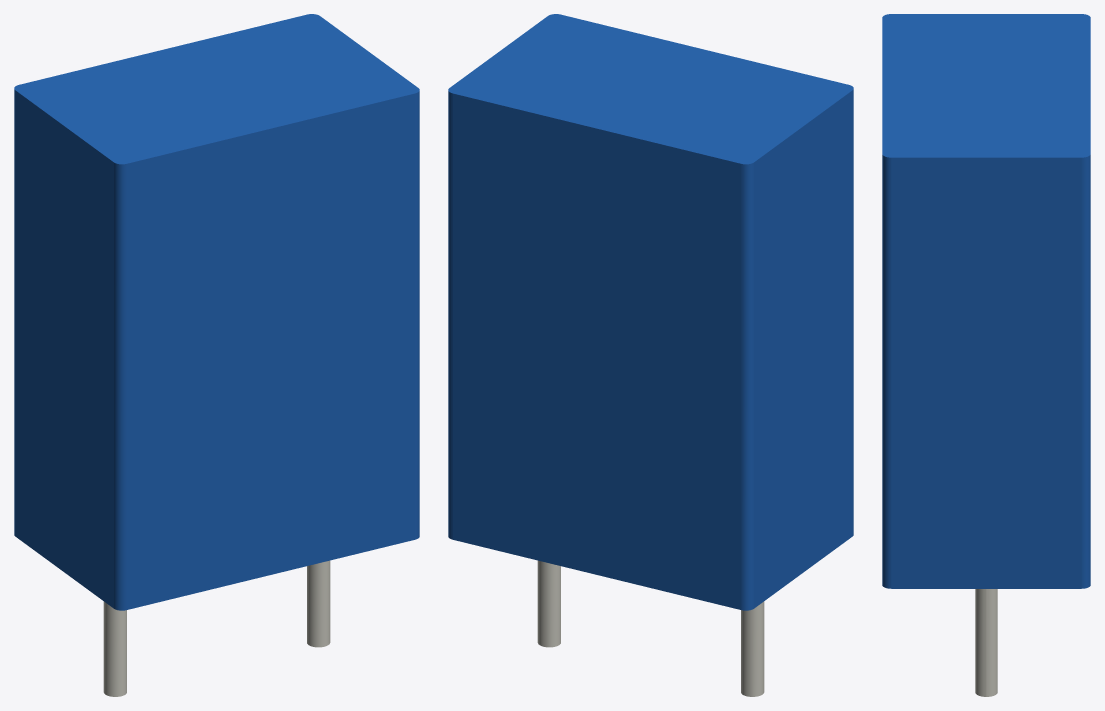
File: kc-l_radial_l7.5mm_w4.6mm_p5.00mm_neosid_sd75.glb
3 renders of one model, left to right at view 1: azimuth 30°, elevation 25°; view 2: azimuth 150°, elevation 25°; view 3: azimuth 270°, elevation 25°, orthographic. The views are drawn at different scales.
Parts seen in each view (by area): view 1: 0_0.16666666666666666_0.5_0, 0.6666666666666666_0.6666666666666666_0.5833333333333334_0.8; view 2: 0_0.16666666666666666_0.5_0, 0.6666666666666666_0.6666666666666666_0.5833333333333334_0.8; view 3: 0_0.16666666666666666_0.5_0, 0.6666666666666666_0.6666666666666666_0.5833333333333334_0.8.
Part boxes in pixels (x1,y1,x2,y2): 0_0.16666666666666666_0.5_0: [14, 14, 419, 610]; 0.6666666666666666_0.6666666666666666_0.5833333333333334_0.8: [103, 560, 330, 696]; 0_0.16666666666666666_0.5_0: [448, 14, 853, 610]; 0.6666666666666666_0.6666666666666666_0.5833333333333334_0.8: [537, 560, 764, 696]; 0_0.16666666666666666_0.5_0: [882, 14, 1090, 588]; 0.6666666666666666_0.6666666666666666_0.5833333333333334_0.8: [975, 589, 997, 696].
Bounding box in the file's own units: 0.75 × 1.36 × 0.4599.
